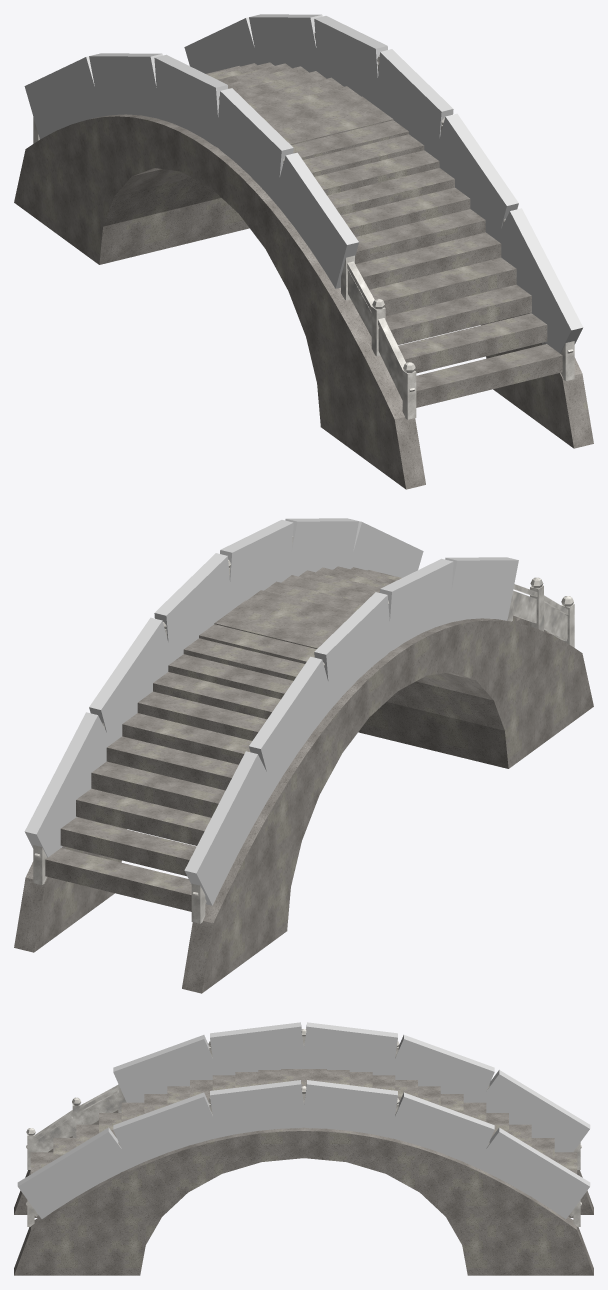
File: arch_bridge.glb
The picture shows the model from 3 angles, top to bottom: view 1: azimuth 30°, elevation 25°; view 2: azimuth 150°, elevation 25°; view 3: azimuth 270°, elevation 25°; orthographic projection. The views are drawn at different scales.
Parts seen in each view (by area): view 1: BridgeBody, BridgeSteps, BridgeRail-convcolonly.001, BridgeRail-convcolonly.006, BridgeRail-convcolonly.007, BridgeRail-convcolonly.002, BridgeRails, BridgeRail-convcolonly.008, BridgeRail-convcolonly.003, BridgeRail-convcolonly.004, BridgeRail-convcolonly.009, BridgeRail-convcolonly.005 (+2 smaller); view 2: BridgeBody, BridgeSteps, BridgeRail-convcolonly.005, BridgeRail-convcolonly.011, BridgeRail-convcolonly.004, BridgeRail-convcolonly.010, BridgeRail-convcolonly.003, BridgeRail-convcolonly.009, BridgeRail-convcolonly.002, BridgeRail-convcolonly.008, BridgeRail-convcolonly.001, BridgeRails (+2 smaller); view 3: BridgeBody, BridgeSteps, BridgeRail-convcolonly.006, BridgeRail-convcolonly.011, BridgeRail-convcolonly.010, BridgeRail-convcolonly.007, BridgeRail-convcolonly.008, BridgeRail-convcolonly.009, BridgeRail-convcolonly.003, BridgeRail-convcolonly.002, BridgeRail-convcolonly.001, BridgeRail-convcolonly.005 (+2 smaller).
Boxes of the visible parts, x1,y1,x2,y2 form: BridgeBody: [14, 114, 593, 489]; BridgeSteps: [206, 62, 562, 407]; BridgeRail-convcolonly.001: [274, 152, 358, 288]; BridgeRail-convcolonly.006: [495, 208, 583, 353]; BridgeRail-convcolonly.007: [434, 113, 518, 240]; BridgeRail-convcolonly.002: [216, 88, 293, 204]; BridgeRails: [33, 32, 574, 419]; BridgeRail-convcolonly.008: [376, 49, 453, 158]; BridgeRail-convcolonly.003: [154, 54, 228, 147]; BridgeRail-convcolonly.004: [89, 53, 162, 118]; BridgeRail-convcolonly.009: [314, 16, 387, 105]; BridgeRail-convcolonly.005: [24, 56, 100, 139]; BridgeBody: [14, 618, 593, 993]; BridgeSteps: [45, 566, 558, 911]; BridgeRail-convcolonly.005: [184, 751, 274, 905]; BridgeRail-convcolonly.011: [24, 712, 111, 857]; BridgeRail-convcolonly.004: [249, 656, 333, 792]; BridgeRail-convcolonly.010: [89, 617, 172, 744]; BridgeRail-convcolonly.003: [314, 592, 391, 709]; BridgeRail-convcolonly.009: [154, 553, 229, 663]; BridgeRail-convcolonly.002: [379, 558, 453, 651]; BridgeRail-convcolonly.008: [220, 520, 293, 612]; BridgeRail-convcolonly.001: [445, 557, 518, 623]; BridgeRails: [33, 536, 574, 923]; BridgeBody: [14, 1110, 593, 1275]; BridgeSteps: [30, 1069, 577, 1217]; BridgeRail-convcolonly.006: [17, 1127, 133, 1218]; BridgeRail-convcolonly.011: [474, 1127, 590, 1218]; BridgeRail-convcolonly.010: [386, 1092, 494, 1166]; BridgeRail-convcolonly.007: [113, 1092, 221, 1166]; BridgeRail-convcolonly.008: [210, 1080, 306, 1137]; BridgeRail-convcolonly.009: [301, 1080, 397, 1138]; BridgeRail-convcolonly.003: [301, 1022, 397, 1075]; BridgeRail-convcolonly.002: [210, 1022, 306, 1075]; BridgeRail-convcolonly.001: [113, 1035, 219, 1102]; BridgeRail-convcolonly.005: [481, 1070, 590, 1152].
Size of what is drawn, in the model's own units: 4.7 by 6.09 by 17.
Materials: 2 (2 with a texture image).
